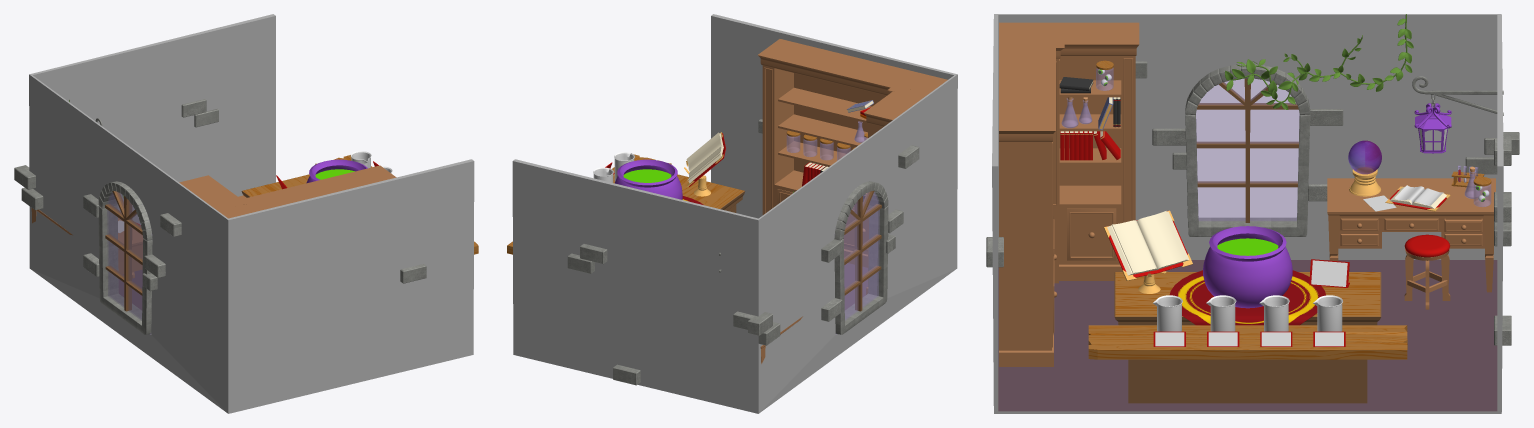
The model's file is OBJ_Cenario.fbx.
3 renders of one model, left to right at view 1: azimuth 30°, elevation 25°; view 2: azimuth 150°, elevation 25°; view 3: azimuth 270°, elevation 25°, orthographic. The views are drawn at different scales.
Visible parts, largest first — view 1: ChaoParede, Janela, Armario, Cube.036, Cube.010, Cube.005, Escrivaninha, Caldeirao, Balcao; view 2: ChaoParede, Armario, Cube.036, Janela, Cube.010, Cube.005, Caldeirao, Balcao, Plane.003, Cylinder.019, LiquidoCaldeirao; view 3: ChaoParede, Armario, Balcao, Cube.010, Escrivaninha, Prateleira, Janela, Caldeirao, Cube.036, Plane.003, Circle, Cube.005 (+20 smaller).
Part boxes in pixels (x1=…): ChaoParede: x1=29, y1=14, x2=474, y2=413; Janela: x1=98, y1=181, x2=152, y2=334; Armario: x1=179, y1=165, x2=396, y2=218; Cube.036: x1=14, y1=99, x2=426, y2=291; Cube.010: x1=107, y1=192, x2=150, y2=334; Cube.005: x1=105, y1=191, x2=142, y2=311; Escrivaninha: x1=31, y1=208, x2=142, y2=273; Caldeirao: x1=306, y1=159, x2=367, y2=183; Balcao: x1=241, y1=174, x2=309, y2=197; ChaoParede: x1=512, y1=14, x2=957, y2=413; Armario: x1=758, y1=39, x2=947, y2=294; Cube.036: x1=567, y1=119, x2=919, y2=385; Janela: x1=834, y1=181, x2=888, y2=334; Cube.010: x1=836, y1=192, x2=879, y2=334; Cube.005: x1=844, y1=191, x2=881, y2=311; Caldeirao: x1=615, y1=159, x2=682, y2=199; Balcao: x1=677, y1=174, x2=745, y2=212; Plane.003: x1=686, y1=132, x2=723, y2=183; Cylinder.019: x1=786, y1=135, x2=850, y2=160; LiquidoCaldeirao: x1=623, y1=169, x2=671, y2=182; ChaoParede: x1=992, y1=14, x2=1503, y2=413; Armario: x1=999, y1=22, x2=1139, y2=366; Balcao: x1=1114, y1=272, x2=1381, y2=403; Cube.010: x1=1196, y1=78, x2=1299, y2=220; Escrivaninha: x1=1327, y1=178, x2=1495, y2=292; Prateleira: x1=1088, y1=325, x2=1407, y2=359; Janela: x1=1185, y1=64, x2=1310, y2=236; Caldeirao: x1=1203, y1=226, x2=1292, y2=308; Cube.036: x1=986, y1=61, x2=1519, y2=345; Plane.003: x1=1107, y1=211, x2=1189, y2=275; Circle: x1=1169, y1=270, x2=1325, y2=325; Cube.005: x1=1196, y1=78, x2=1298, y2=222.
Size of the model in its own units: 555 by 349 by 677.
